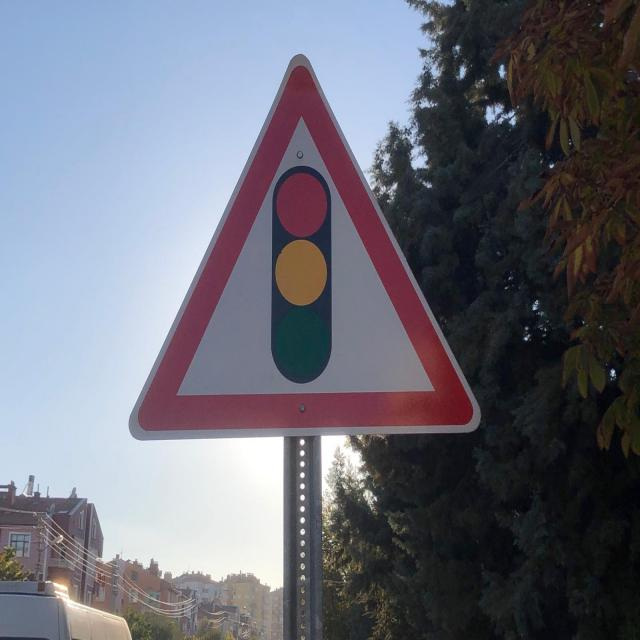light_traffic: (130, 51, 483, 440)
